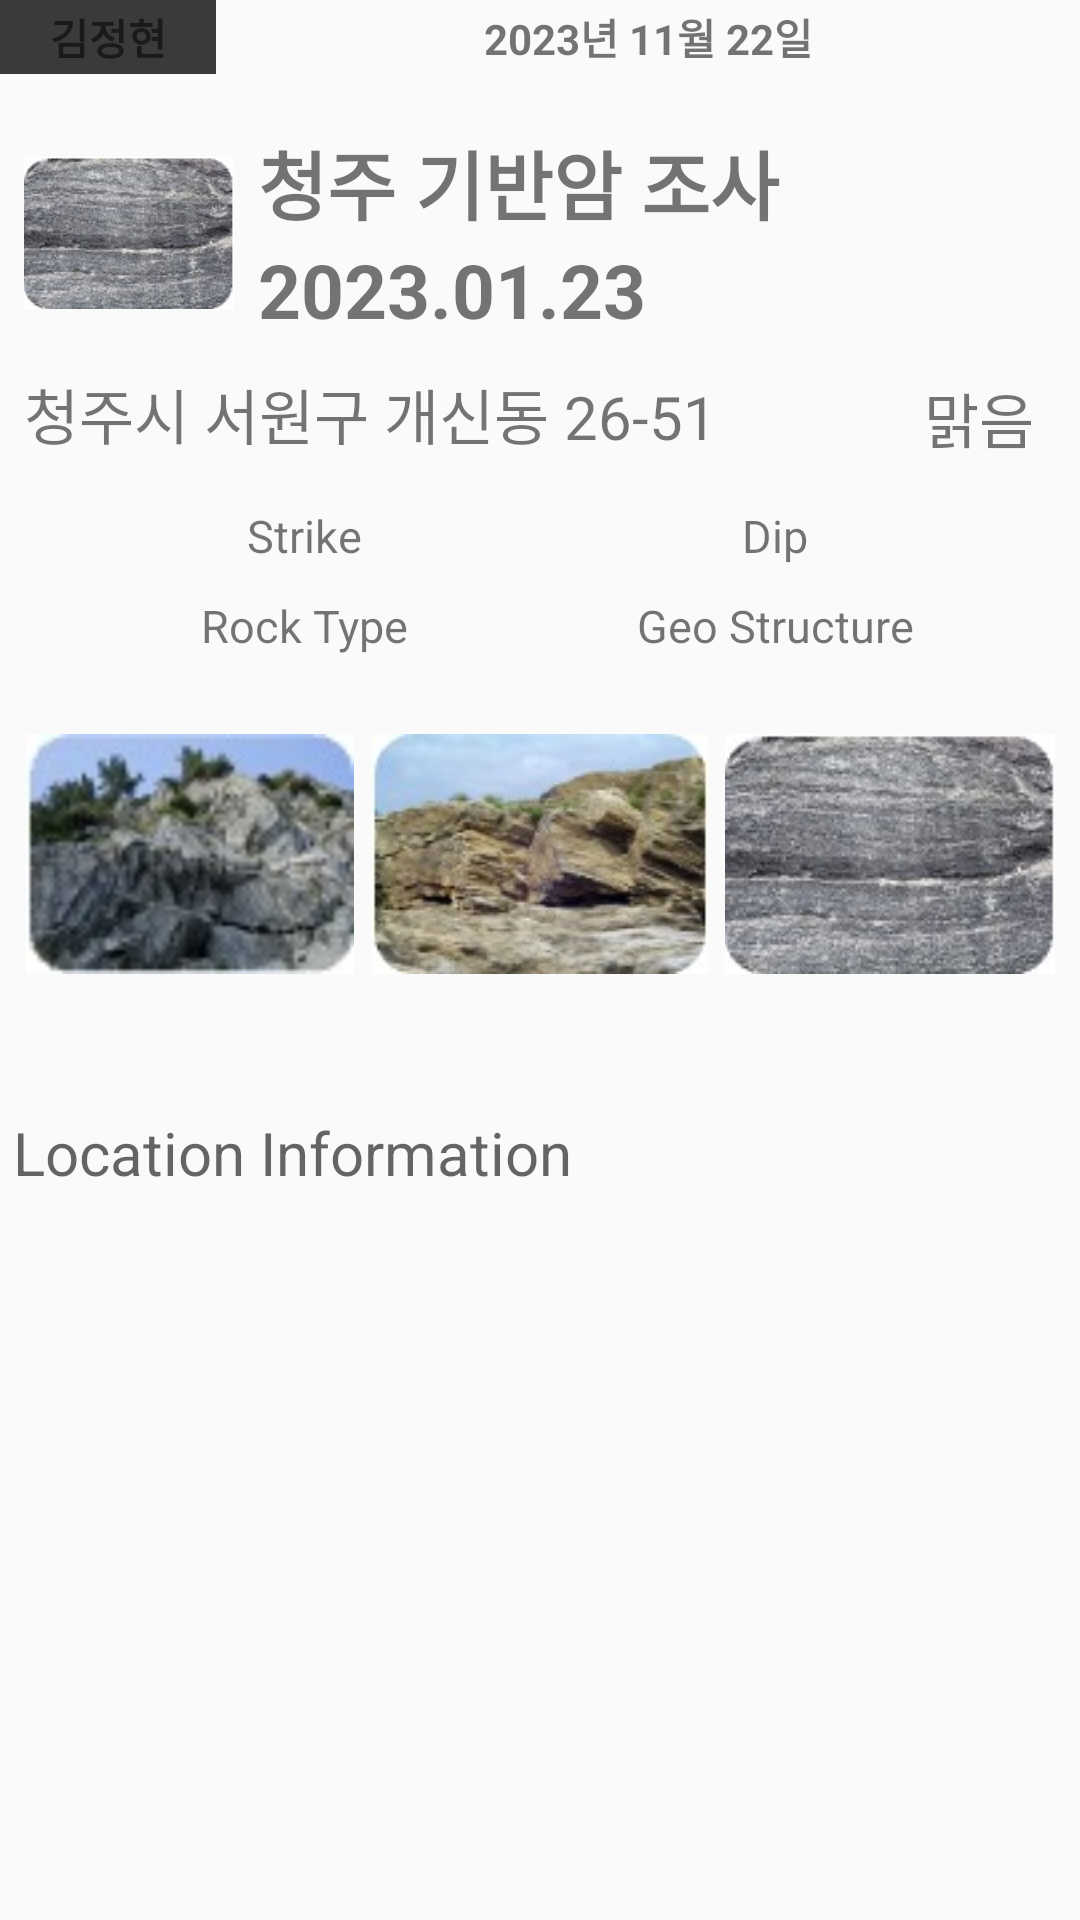

Point at icon controls on the screen. Image size 1080px×1920px, points as point (x, y).
photo: point (128, 233), point (191, 854), point (540, 854), point (889, 855)
